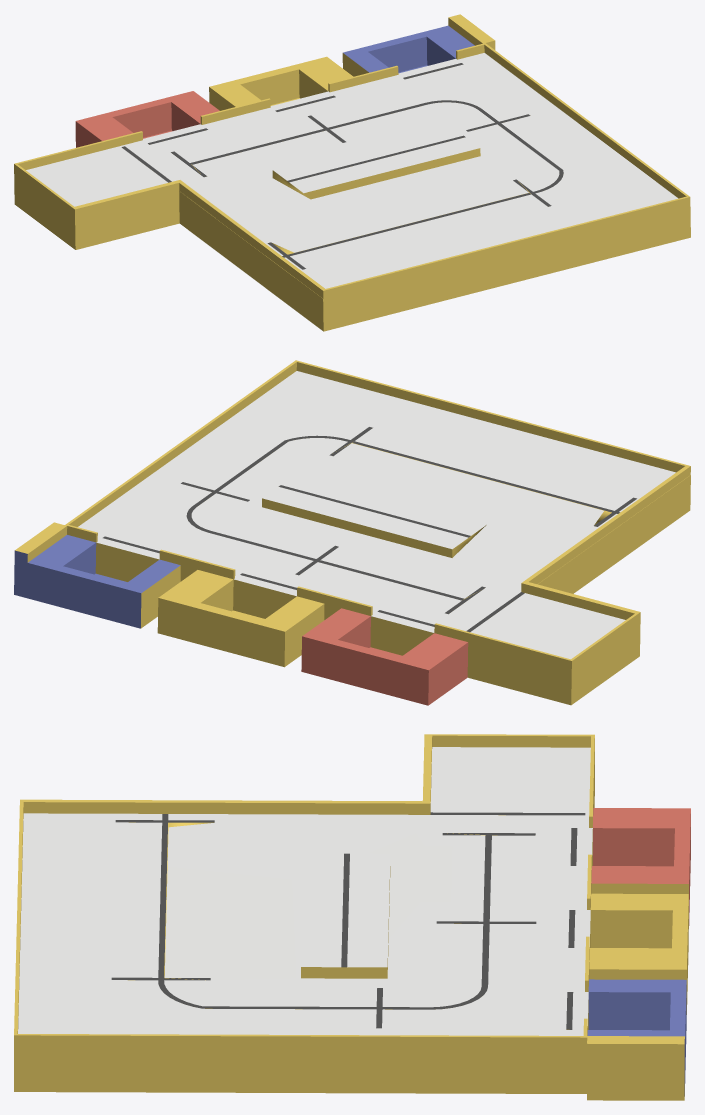
File: irc_stage.dae
The picture shows the model from 3 angles, top to bottom: view 1: azimuth 30°, elevation 25°; view 2: azimuth 150°, elevation 25°; view 3: azimuth 270°, elevation 25°; orthographic projection. The views are drawn at different scales.
Parts seen in each view (by area): view 1: Body1; view 2: Body1; view 3: Body1.
Part boxes in pixels (x1,y1,x2,y2): Body1: [14, 14, 690, 331]; Body1: [14, 360, 690, 705]; Body1: [14, 734, 690, 1100].
Bounding box in the file's own units: 2.46 × 2.18 × 0.2426.
